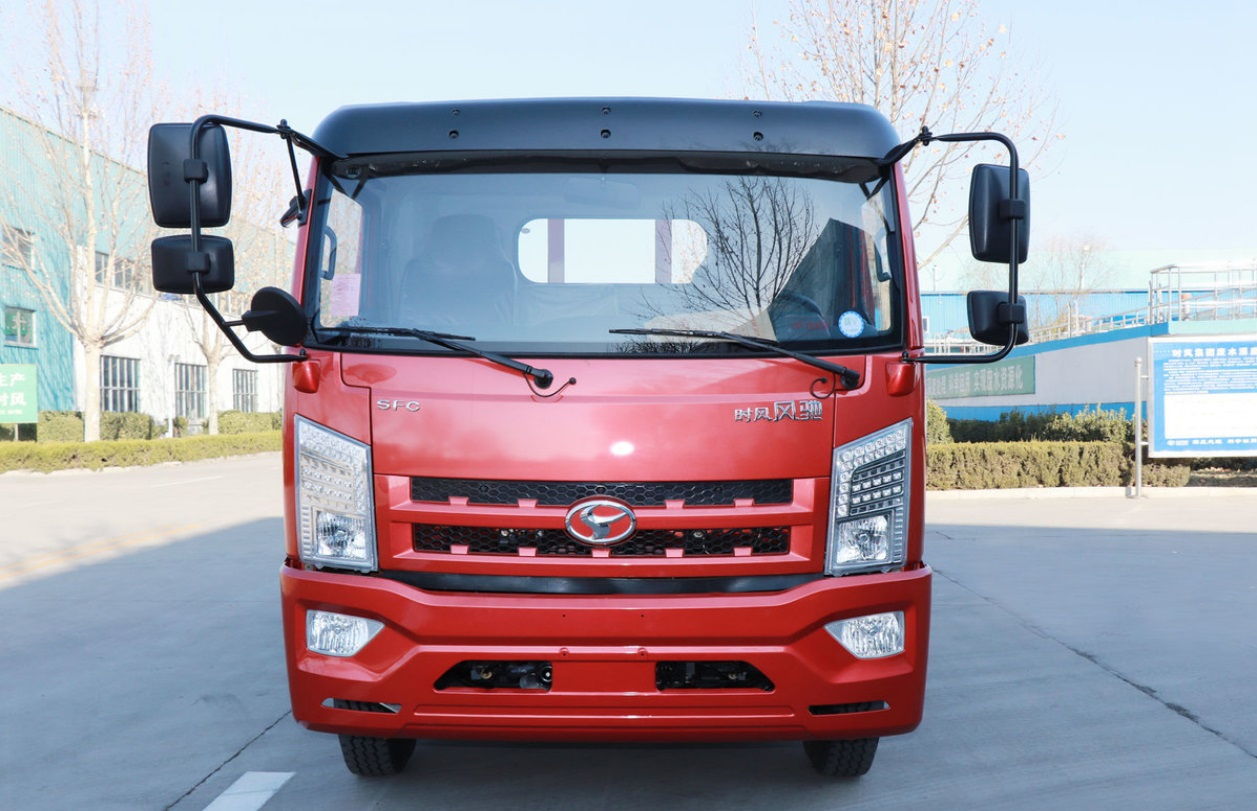truck: (148, 99, 1035, 790)
